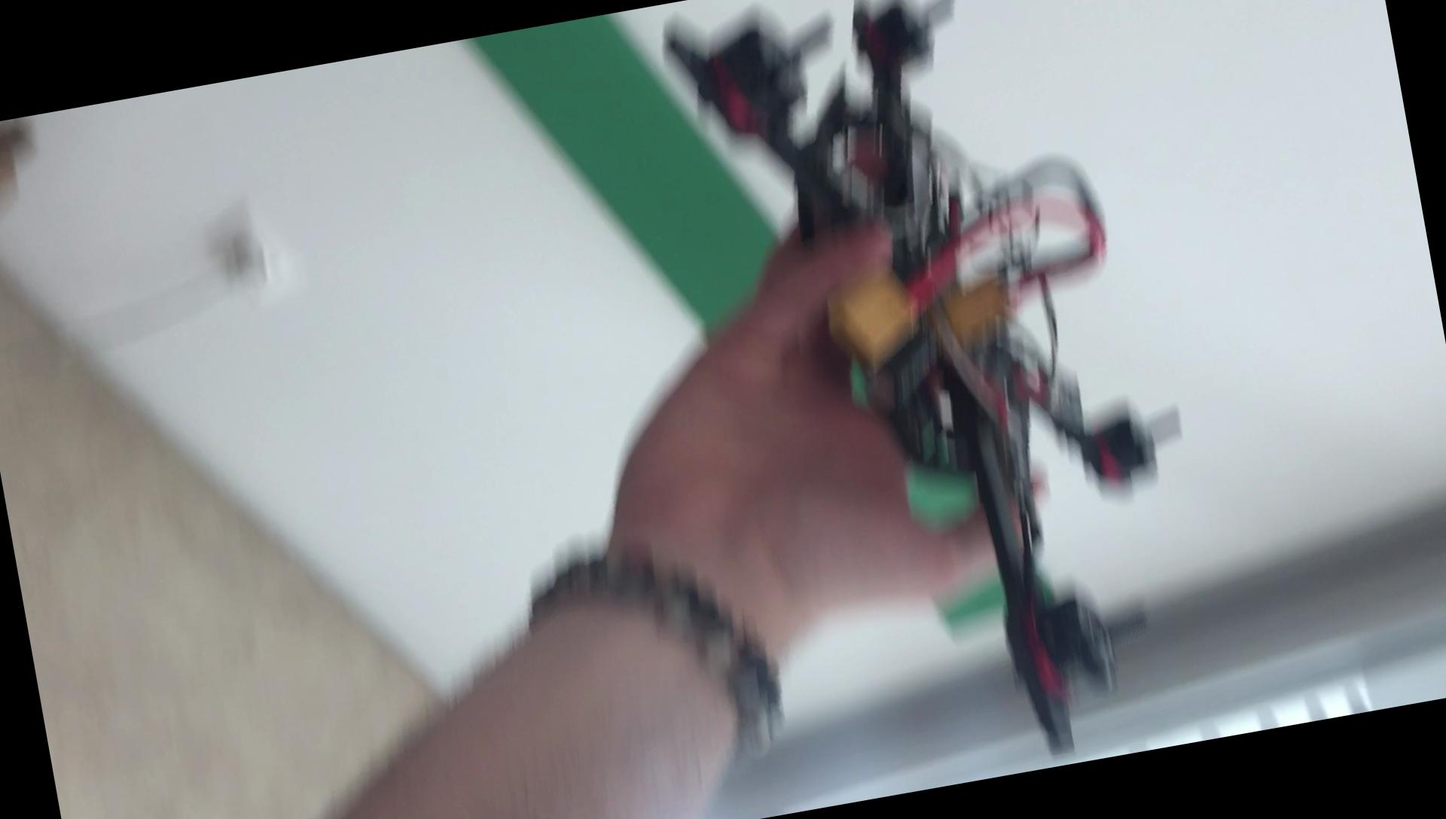drone: (723, 0, 1243, 784)
